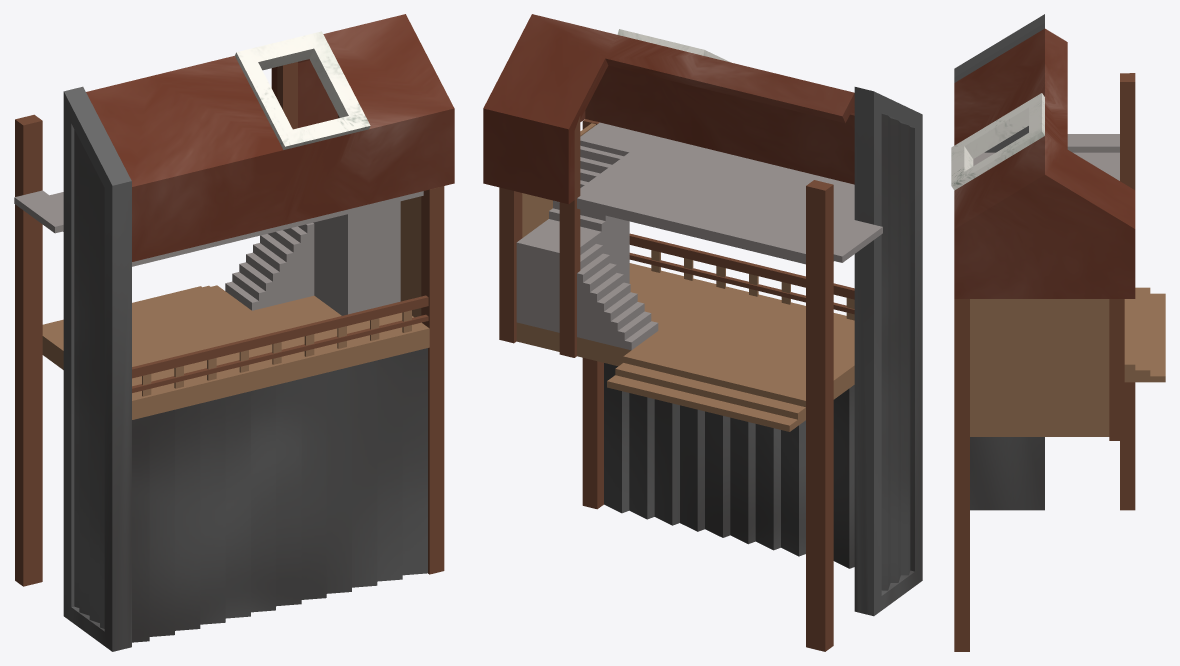
Rendered from SecondStation.fbx.
3 views of the same model, side by side, from view 1: azimuth 30°, elevation 25°; view 2: azimuth 150°, elevation 25°; view 3: azimuth 270°, elevation 25° (orthographic). The views are drawn at different scales.
Visible parts, largest first — view 1: Station_Middle; view 2: Station_Middle; view 3: Station_Middle.
Boxes of the visible parts, x1,y1,x2,y2 form: Station_Middle: [14, 14, 454, 651]; Station_Middle: [483, 14, 922, 651]; Station_Middle: [951, 14, 1165, 651].
Size of the model in its own units: 1150 by 1644 by 654.
